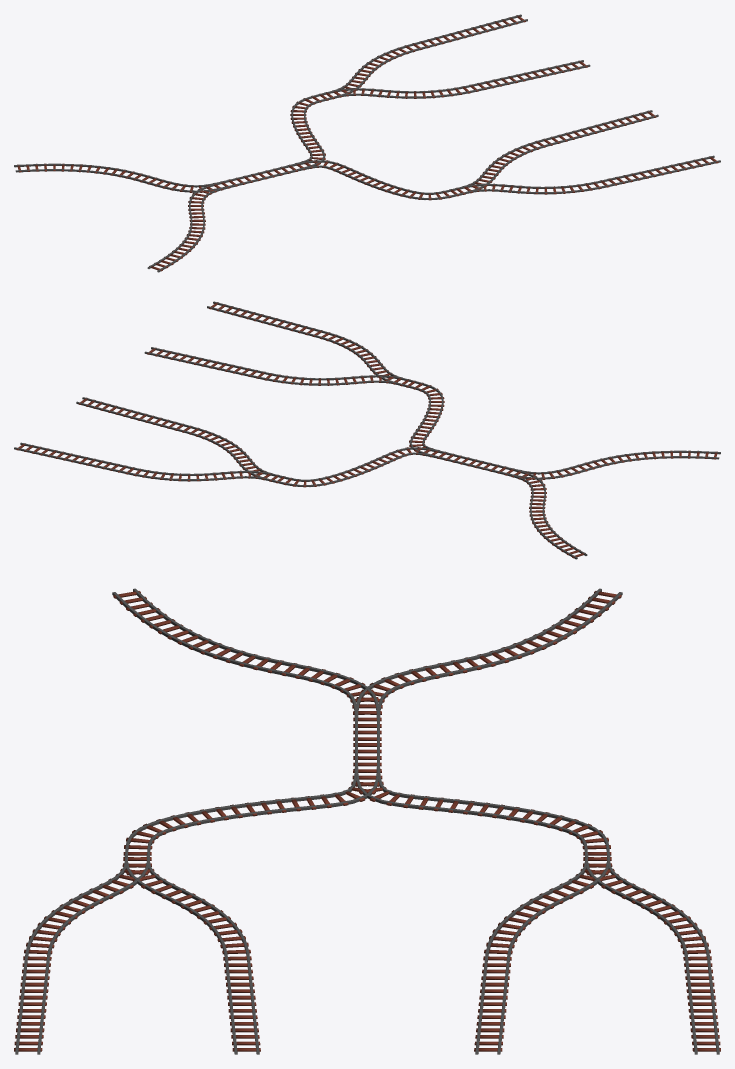
The model's file is TracksLevel2.fbx.
3 views of the same model, one above another, from view 1: azimuth 30°, elevation 25°; view 2: azimuth 150°, elevation 25°; view 3: azimuth 270°, elevation 25° (orthographic). The views are drawn at different scales.
Visible parts, largest first — view 1: Tracks; view 2: Tracks; view 3: Tracks.
Boxes of the visible parts, bbox=[...] form: Tracks: bbox=[14, 14, 720, 272]; Tracks: bbox=[14, 301, 720, 559]; Tracks: bbox=[14, 588, 720, 1054].
Bounding box in the file's own units: 5170 × 13.95 × 3334.
